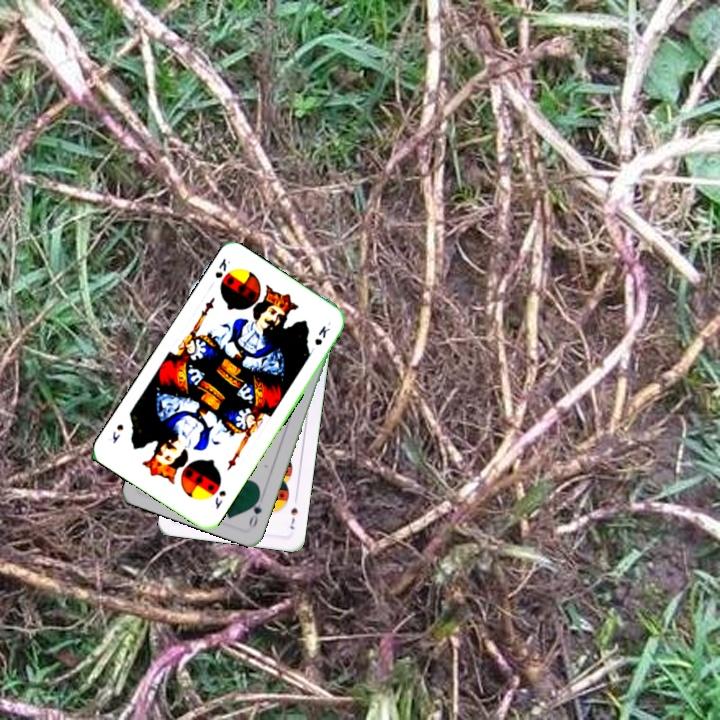GO: (245, 491, 264, 530)
S7: (286, 504, 300, 532)
SK: (211, 254, 233, 281), (211, 486, 229, 512)
